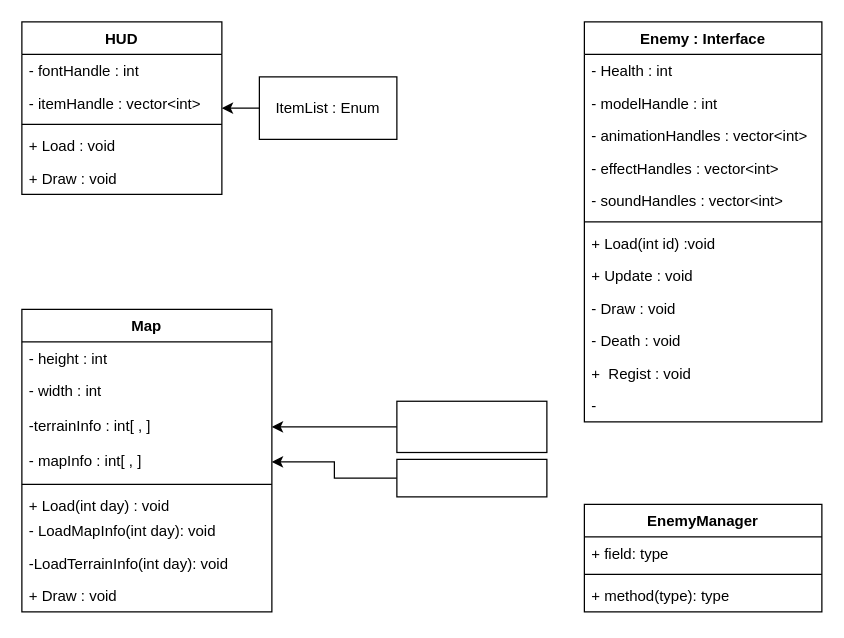
This 844x638 diagram has some shape labels left out. Each missing label, with the centre of its shape:
MapList : Enum: point 471,477
TerrainList : Enum: point 471,426
